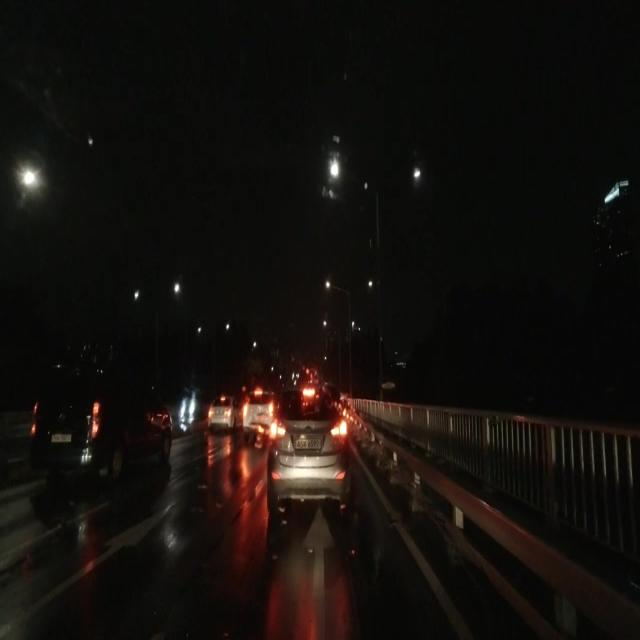Car: (28, 375, 175, 480), (261, 385, 349, 520), (238, 388, 270, 433), (206, 391, 236, 427)
